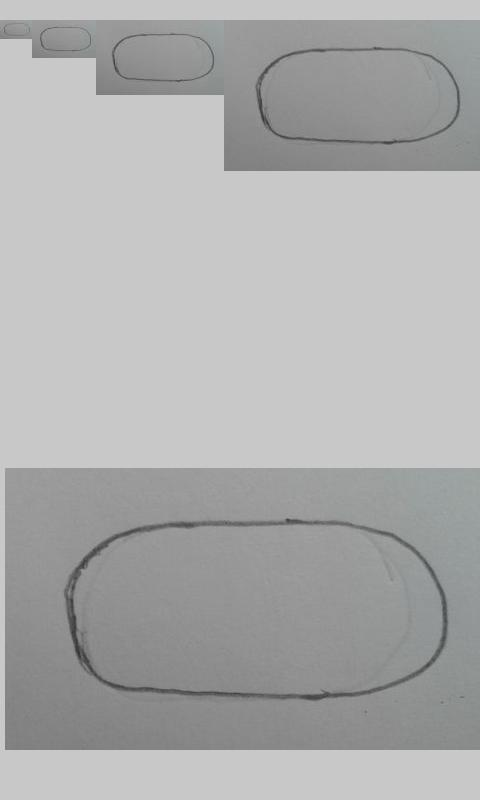chip: (65, 520, 449, 700), (255, 47, 460, 145), (112, 32, 216, 82), (40, 26, 92, 52), (3, 22, 30, 36)
